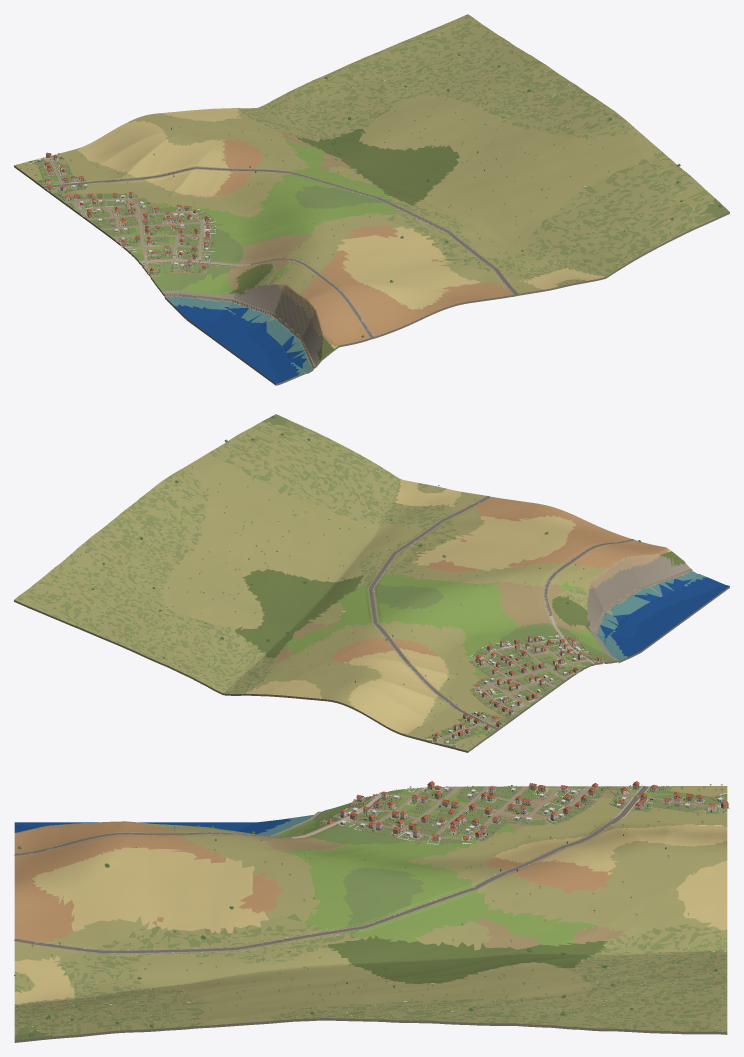
The model's file is parca_+0_-6-yakin.glb.
3 renders of one model, top to bottom at view 1: azimuth 30°, elevation 25°; view 2: azimuth 150°, elevation 25°; view 3: azimuth 270°, elevation 25°, orthographic. The views are drawn at different scales.
Parts seen in each view (by area): view 1: parca_+0_-6_arazi, parca_+0_-6_yollar, parca_+0_-6_duvarlar, parca_+0_-6_yapilar, parca_+0_-6_bitkiler; view 2: parca_+0_-6_arazi, parca_+0_-6_yollar, parca_+0_-6_yapilar, parca_+0_-6_duvarlar, parca_+0_-6_bitkiler; view 3: parca_+0_-6_arazi, parca_+0_-6_yollar, parca_+0_-6_yapilar, parca_+0_-6_duvarlar, parca_+0_-6_bitkiler.
Part boxes in pixels (box(x1,y1,x2,y2)): parca_+0_-6_arazi: box(14, 14, 729, 385); parca_+0_-6_yollar: box(43, 159, 517, 337); parca_+0_-6_duvarlar: box(26, 154, 216, 275); parca_+0_-6_yapilar: box(37, 152, 210, 274); parca_+0_-6_bitkiler: box(16, 34, 721, 337); parca_+0_-6_arazi: box(14, 414, 729, 752); parca_+0_-6_yollar: box(369, 496, 634, 741); parca_+0_-6_yapilar: box(432, 635, 604, 743); parca_+0_-6_duvarlar: box(426, 635, 600, 747); parca_+0_-6_bitkiler: box(52, 416, 643, 748); parca_+0_-6_arazi: box(14, 786, 727, 1042); parca_+0_-6_yollar: box(14, 785, 720, 953); parca_+0_-6_yapilar: box(327, 781, 729, 841); parca_+0_-6_duvarlar: box(320, 785, 727, 844); parca_+0_-6_bitkiler: box(14, 784, 726, 1036).
Bounding box in the file's own units: 1008 × 168 × 1005.
